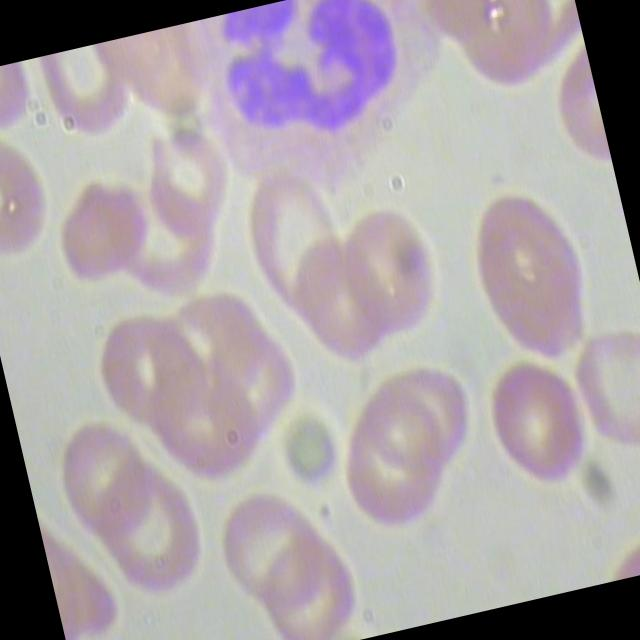RBC: (451, 171, 612, 376), (199, 471, 352, 628), (323, 386, 462, 554), (322, 193, 459, 352), (466, 344, 596, 498), (40, 408, 170, 553), (86, 304, 210, 449), (91, 467, 210, 612), (192, 321, 315, 449), (128, 118, 242, 249), (46, 170, 159, 292), (161, 285, 275, 405)
WBC: (173, 0, 477, 225)
